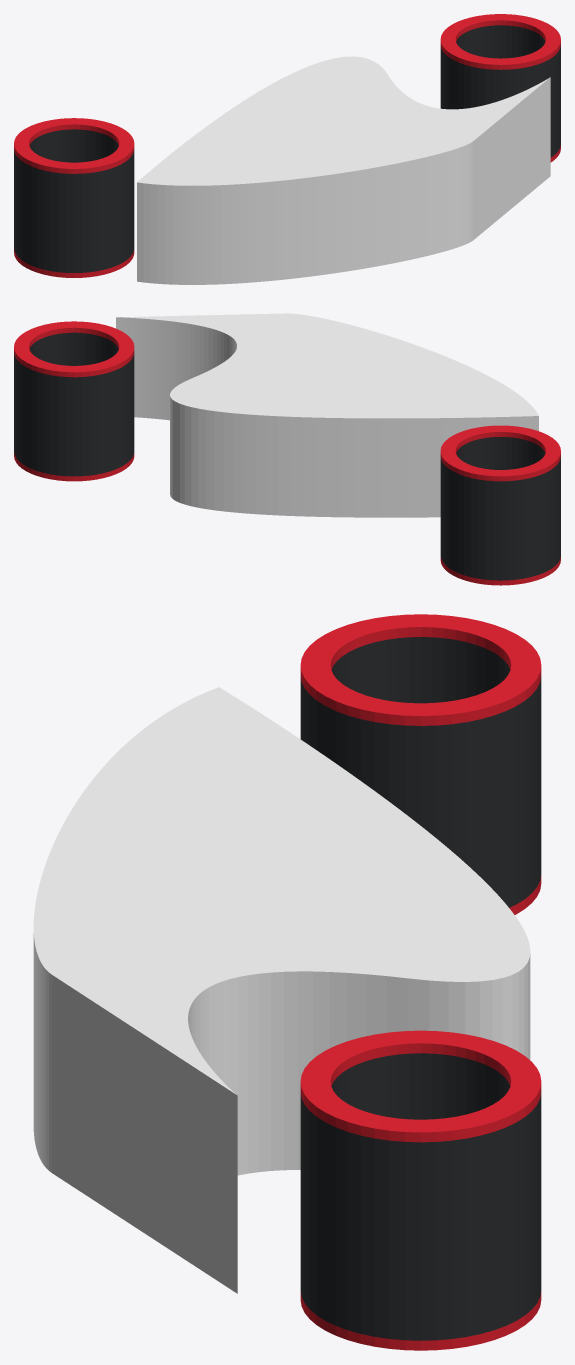
Rendered from tinker.obj.
The picture shows the model from 3 angles, top to bottom: view 1: azimuth 30°, elevation 25°; view 2: azimuth 150°, elevation 25°; view 3: azimuth 270°, elevation 25°; orthographic projection. The views are drawn at different scales.
Parts seen in each view (by area): view 1: obj_1, obj_0, obj_4, obj_6, obj_3, obj_2; view 2: obj_1, obj_4, obj_0, obj_3, obj_6, obj_2, obj_5; view 3: obj_1, obj_4, obj_0, obj_6, obj_3, obj_5.
Boxes of the visible parts, x1,y1,x2,y2 form: obj_1: [137, 56, 550, 284]; obj_0: [14, 129, 134, 272]; obj_4: [440, 25, 560, 157]; obj_6: [440, 14, 560, 69]; obj_3: [14, 118, 134, 173]; obj_2: [14, 249, 134, 277]; obj_1: [116, 313, 538, 517]; obj_4: [14, 332, 134, 476]; obj_0: [440, 437, 560, 580]; obj_3: [440, 425, 560, 481]; obj_6: [14, 321, 134, 377]; obj_2: [440, 556, 560, 585]; obj_5: [14, 452, 134, 481]; obj_1: [33, 687, 530, 1293]; obj_4: [300, 1053, 541, 1340]; obj_0: [300, 637, 541, 907]; obj_6: [300, 1030, 541, 1142]; obj_3: [300, 614, 541, 725]; obj_5: [300, 1291, 541, 1350].
Bounding box in the file's own units: 56 × 11 × 23.19.
